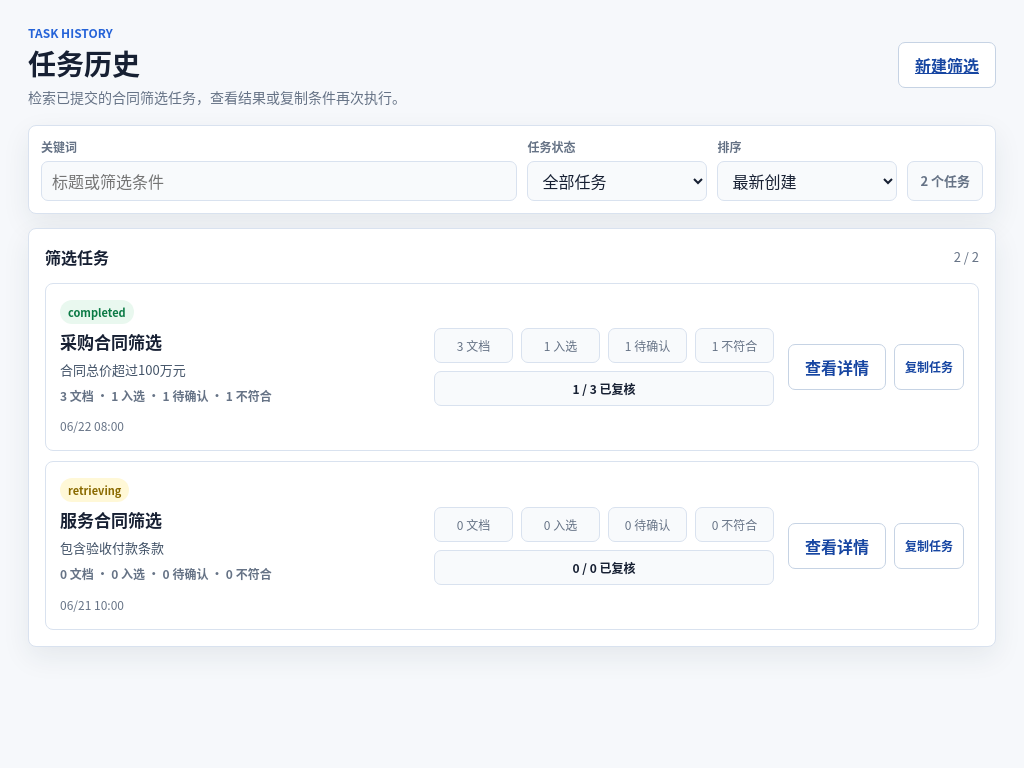
Scenario: TaskHistoryPage › clears stale rows and shows only an error state when reload fails
Expected: the heading "采购合同筛选" is shown, 60,329 -> 162,354
Select "已完成" in the dropdown labelled "任务状态" at (617, 181), box 527,161 -> 707,201
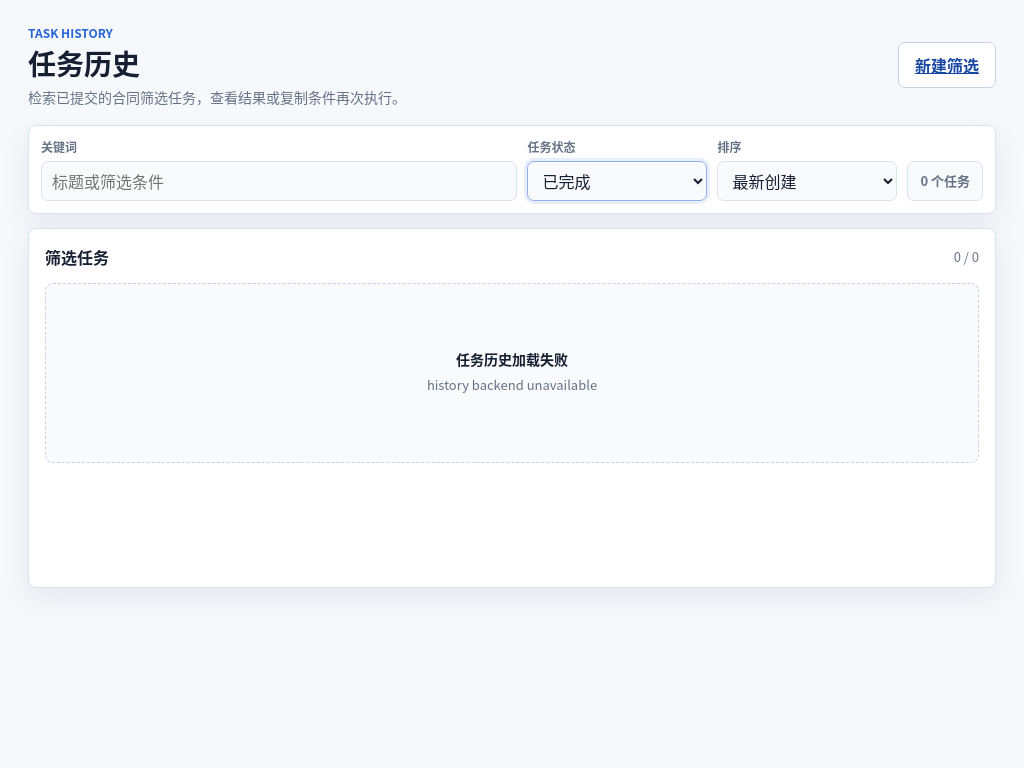
Now the text "history backend unavailable" is shown, box 427,375 -> 597,394
Now the heading "采购合同筛选" is gone
